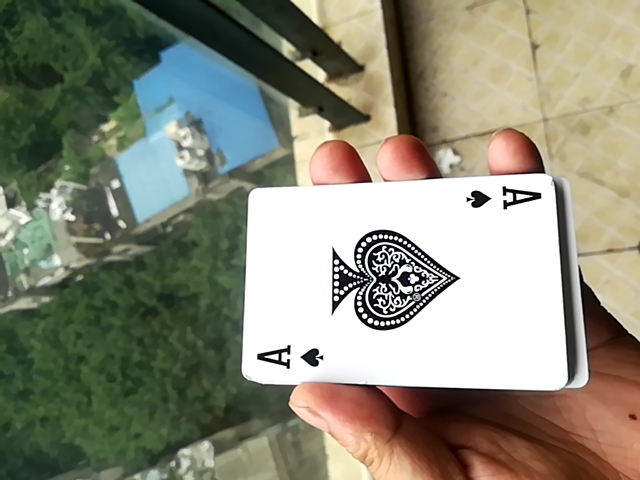ht a: (232, 170, 571, 399)
